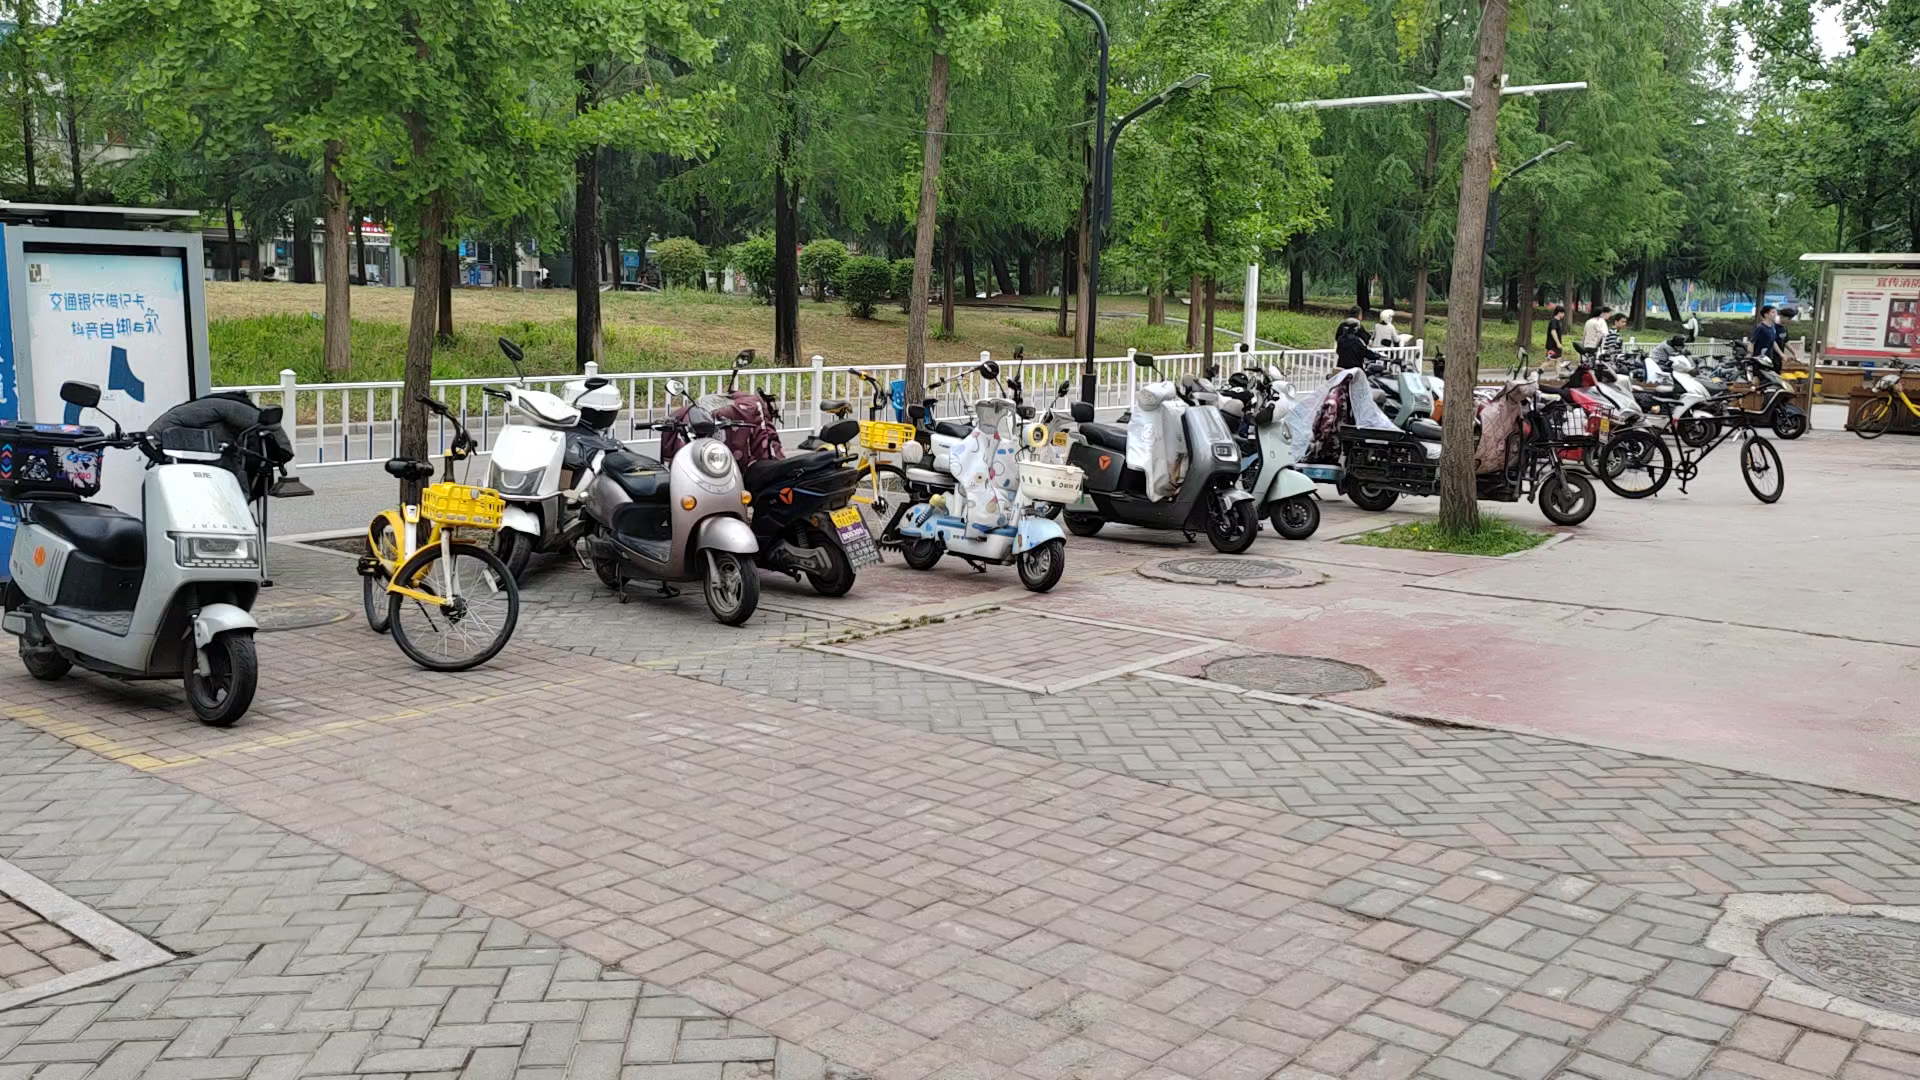others: (1317, 343, 1602, 534), (669, 364, 851, 615), (1064, 342, 1251, 562), (905, 393, 1092, 609), (593, 414, 761, 647), (495, 347, 615, 574), (1601, 380, 1797, 505), (1217, 327, 1327, 546)
shared_bike_meituan: (336, 393, 530, 690), (800, 361, 936, 556)
